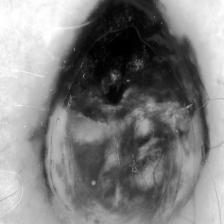Benign Marking or Mole: (40, 0, 210, 224)
